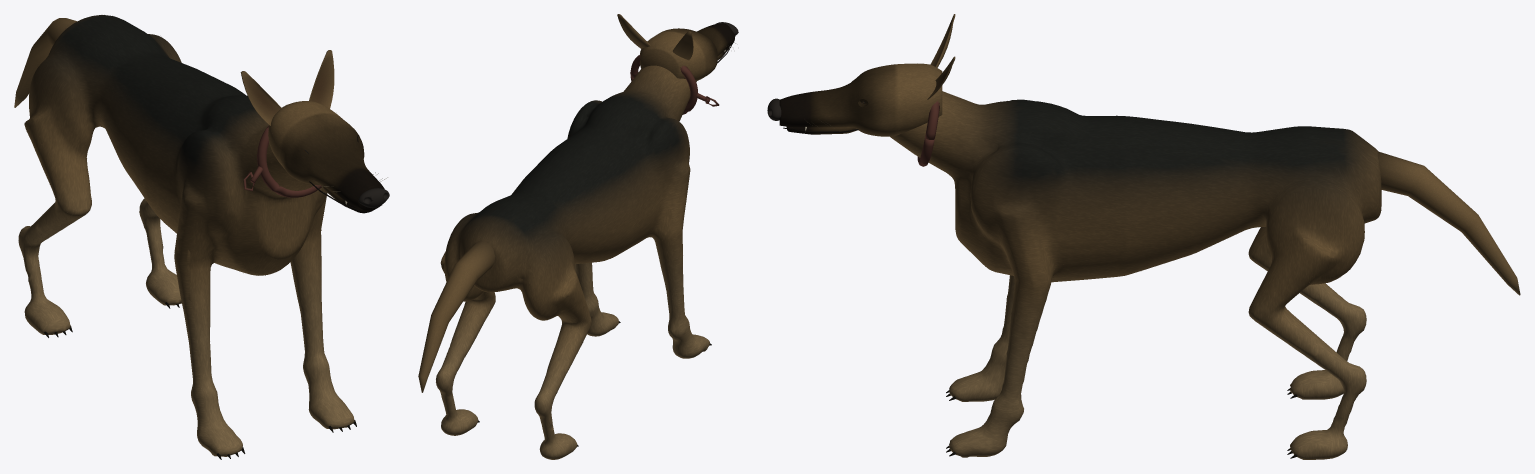
Rendered from roadside-dog-v2.glb.
3 views of the same model, side by side, from view 1: azimuth 30°, elevation 25°; view 2: azimuth 150°, elevation 25°; view 3: azimuth 270°, elevation 25° (orthographic). The views are drawn at different scales.
Parts seen in each view (by area): view 1: DogChest, DogHeadSculpt, Low tense tapering tail, Collar attachment tab, Central philtrum; view 2: DogChest, DogHeadSculpt, Low tense tapering tail, Collar attachment tab; view 3: DogChest, DogHeadSculpt, Low tense tapering tail.
Boxes of the visible parts, x1,y1,x2,y2 form: DogChest: (18,15,356,459); DogHeadSculpt: (240,50,387,210); Low tense tapering tail: (14,18,76,107); Collar attachment tab: (243,126,321,197); Central philtrum: (304,136,389,209); DogChest: (436,65,711,459); DogHeadSculpt: (617,14,735,80); Low tense tapering tail: (418,241,495,392); Collar attachment tab: (630,55,719,114); DogChest: (890,91,1381,459); DogHeadSculpt: (779,14,955,136); Low tense tapering tail: (1377,151,1520,295).
Size of the model in its own units: 0.4946 by 1.12 by 1.96.
Materials: 6 (1 with a texture image).
